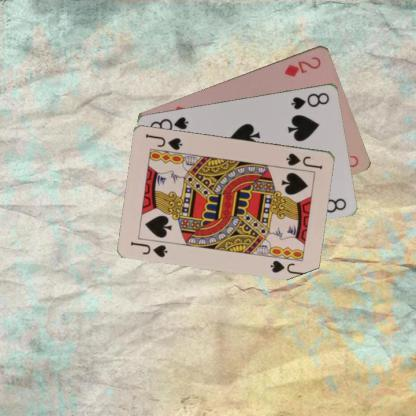2d: (282, 53, 322, 78)
8s: (289, 90, 331, 110)
Js: (284, 150, 324, 171), (128, 239, 170, 258)
